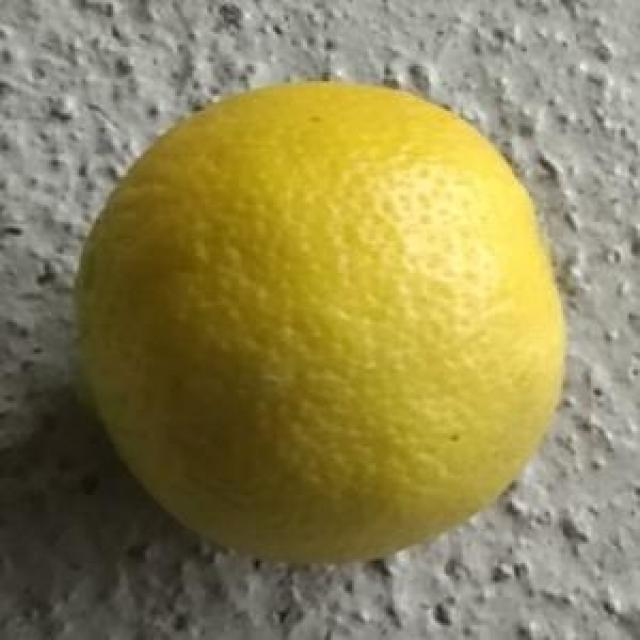lemon: (78, 75, 570, 568)
